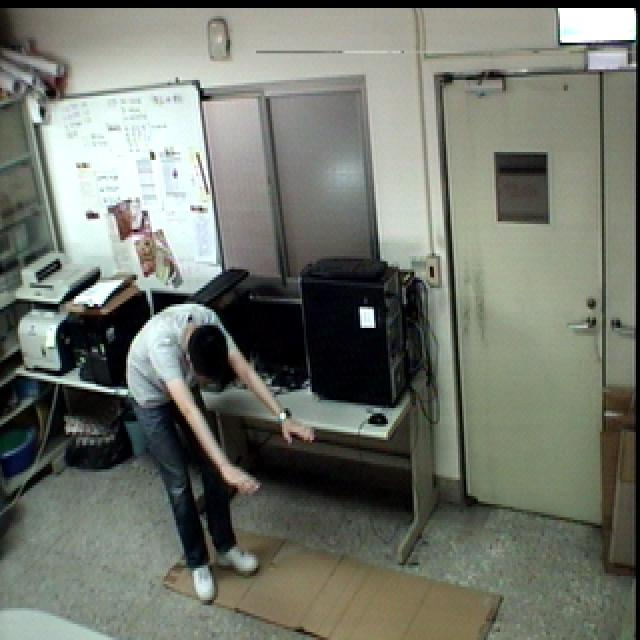bend: (120, 300, 318, 610)
